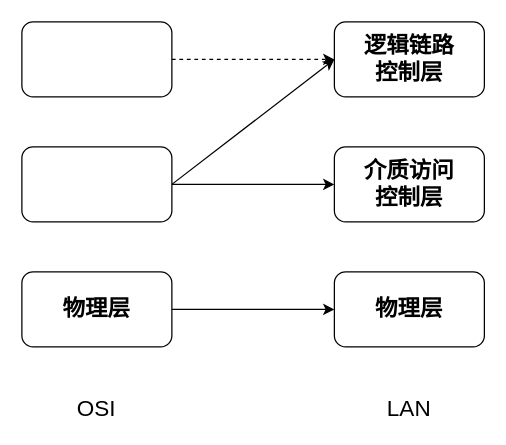
Image size: 506x445. Some labels were removed from this diagram. Here are the shapes that lost their labels. From the top down, the centre of each, then its label:
At point 96,59: "网络层".
At point 96,184: "数据链路层".
